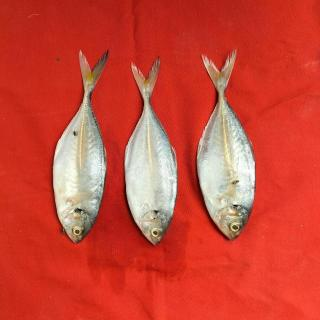Ikan: (45, 46, 261, 254)
